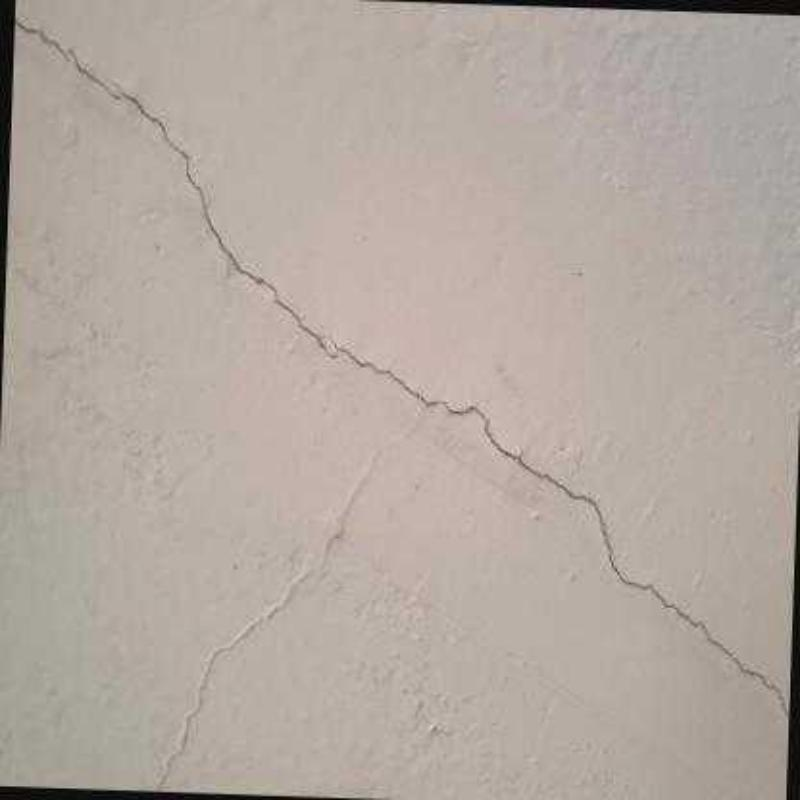pothole: (330, 341, 791, 725), (14, 18, 337, 358)
